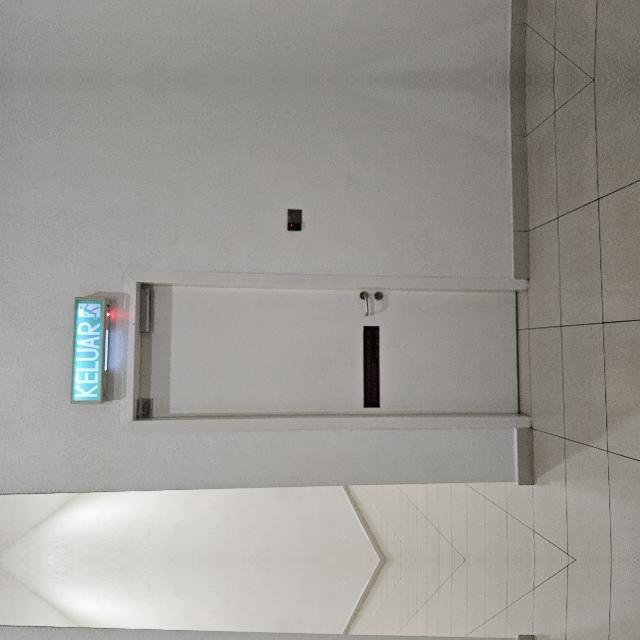door: (127, 200, 291, 610), (127, 510, 291, 640)
